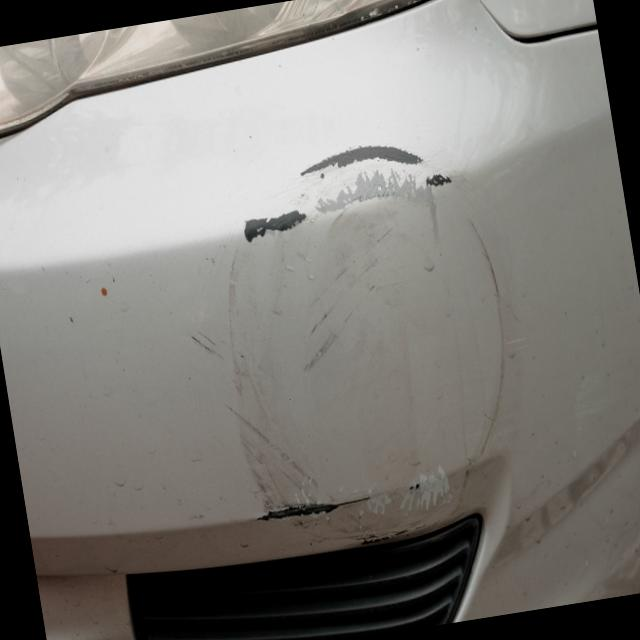Rayure: (421, 200, 556, 505), (186, 297, 323, 505), (276, 221, 429, 391), (299, 130, 427, 195), (255, 486, 363, 540), (239, 208, 314, 250)
